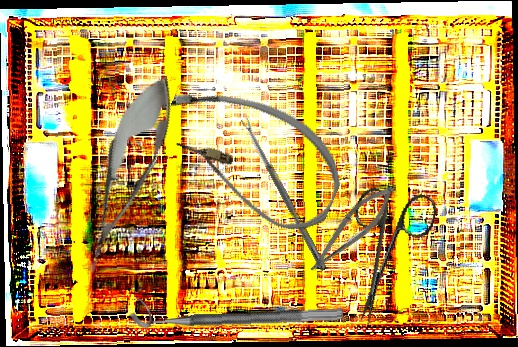Cannula: (143, 69, 358, 244)
Fixation Ring: (129, 290, 344, 329)
Iris Scissors: (328, 179, 440, 335)
Micro Scissor: (66, 66, 188, 281), (303, 176, 402, 283)
Surgical Spoon: (240, 116, 329, 272)
